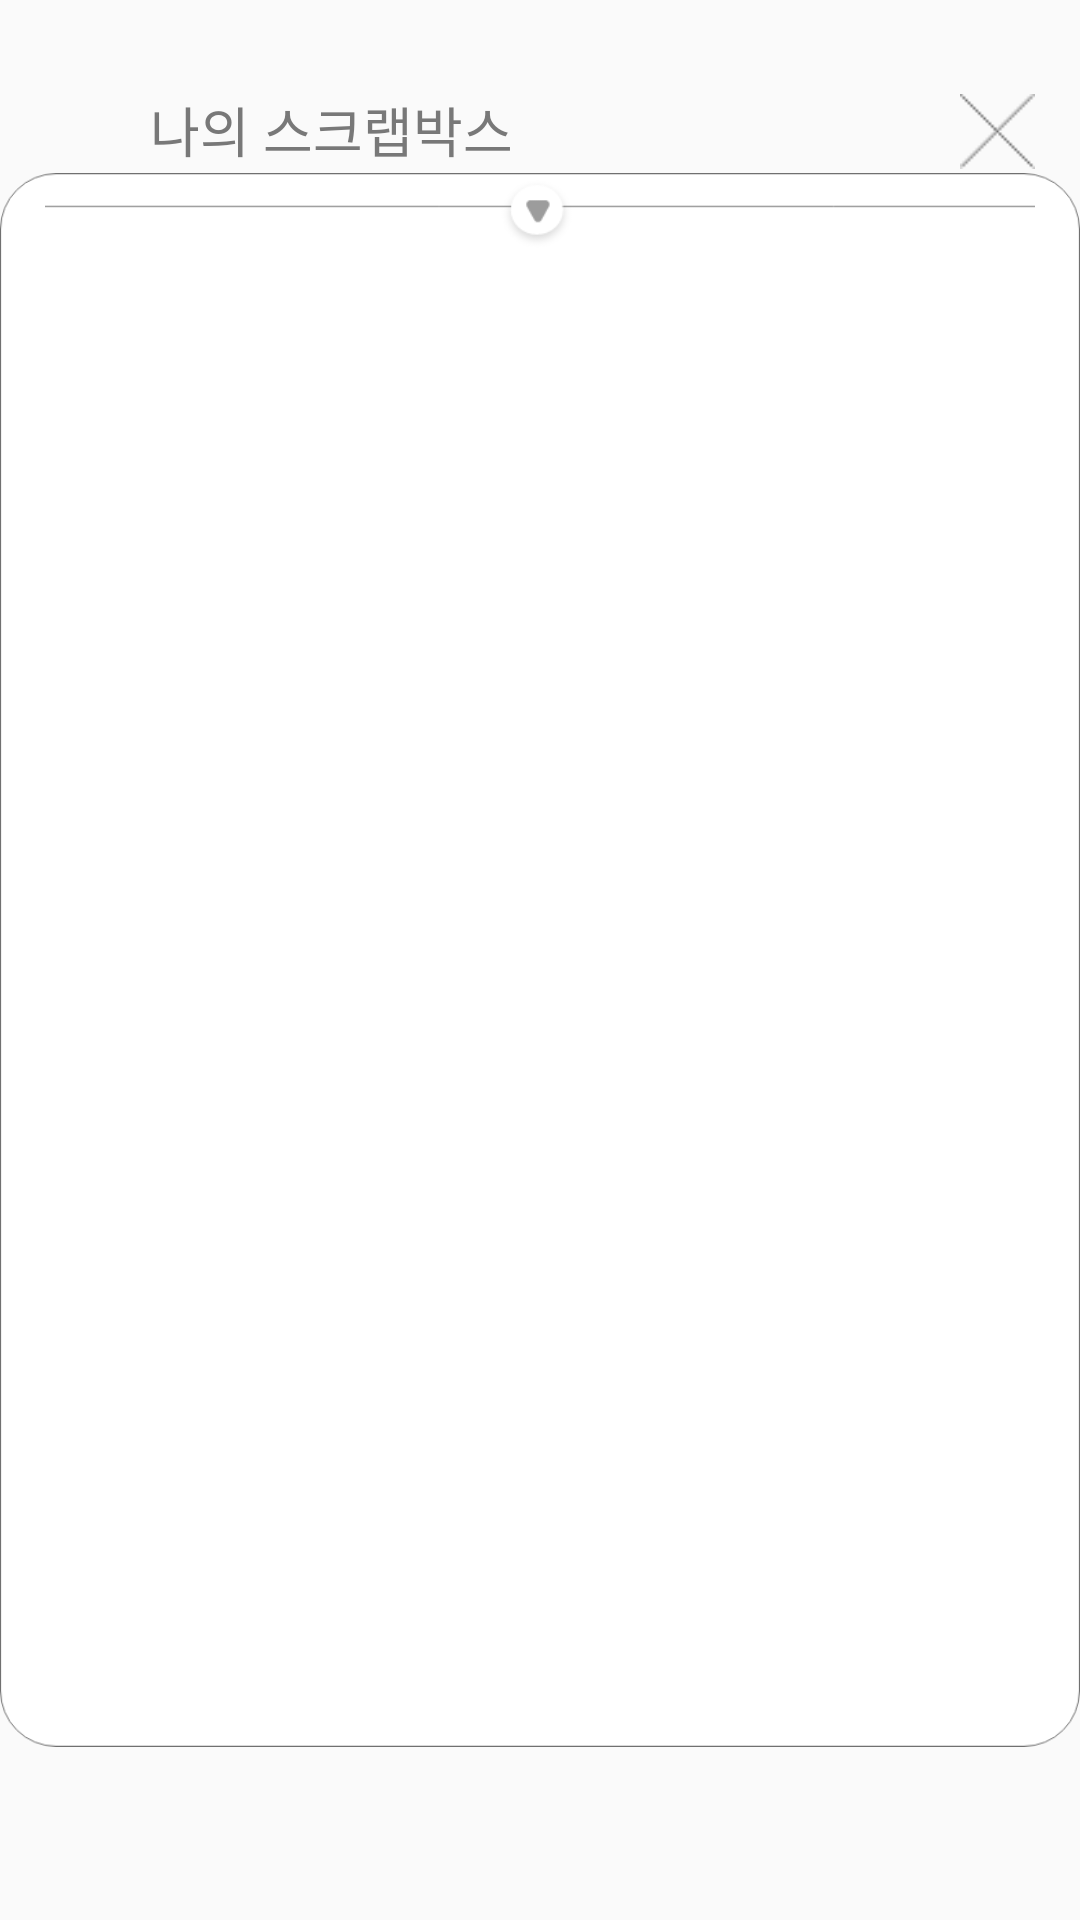

Screen size 1080w x 1920h. Icon name, then its box in pixels as (x1, y1, x2, y2):
san exit: (960, 94, 1035, 169)
